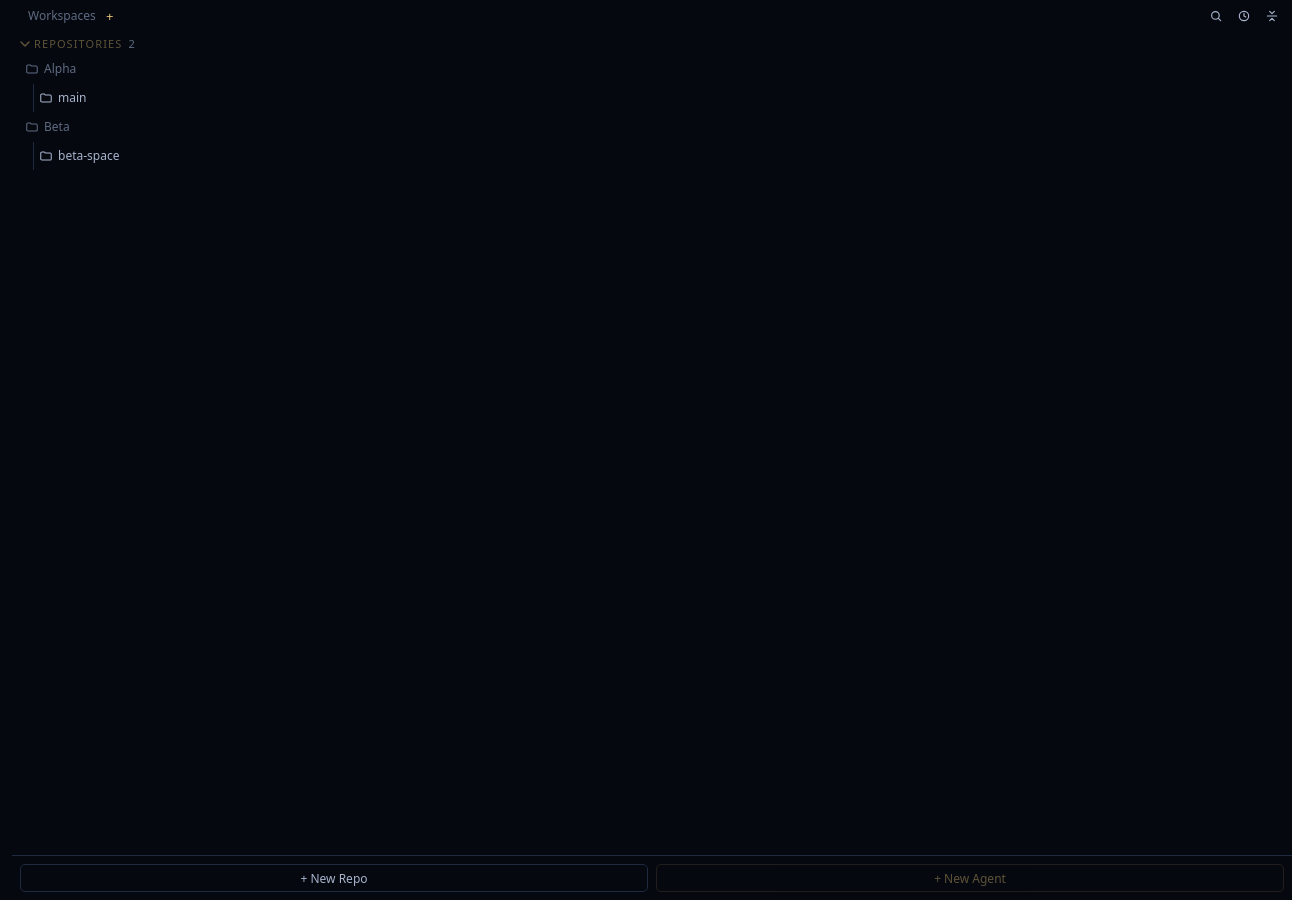
sidebar filter › says so when nothing matches
Step 1. Click the button named "Filter workspaces" → (1216, 16), box [1204,4,1228,28]
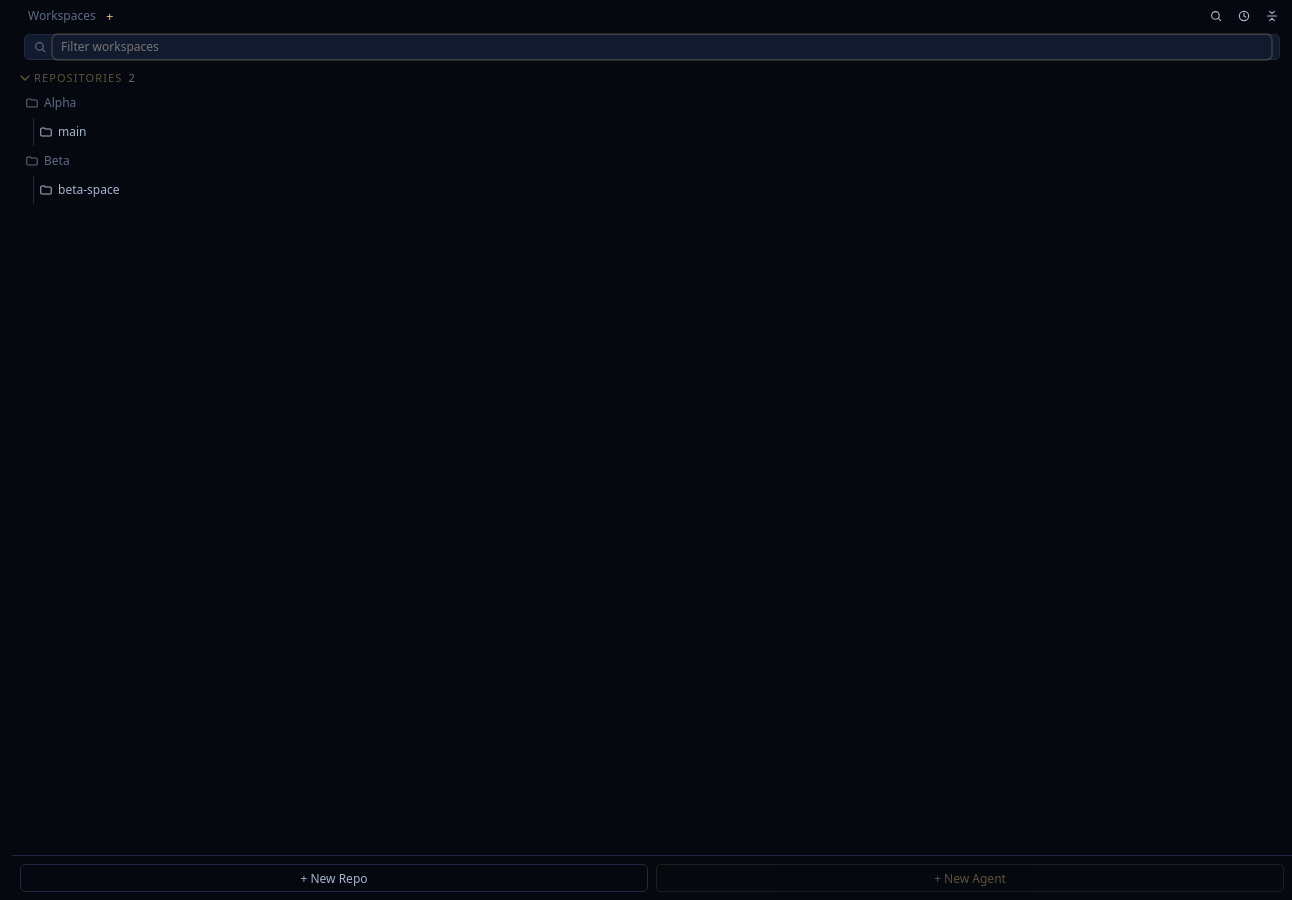
Step 2. Type "zzz" into the field labelled "Filter workspaces" → (662, 47), box [53,35,1271,59]
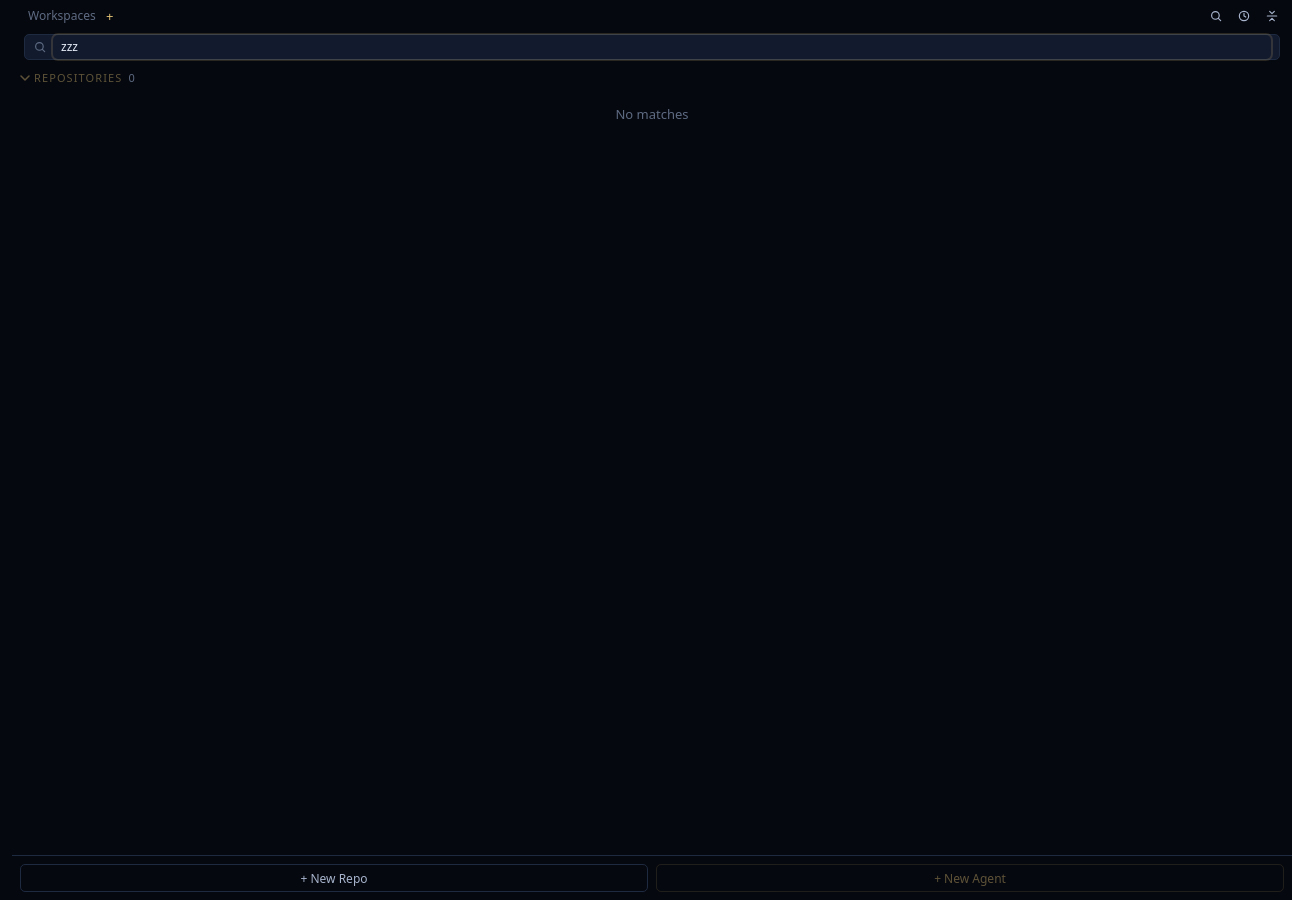
Result: the text "No matches" is shown at [615,105,688,123]
